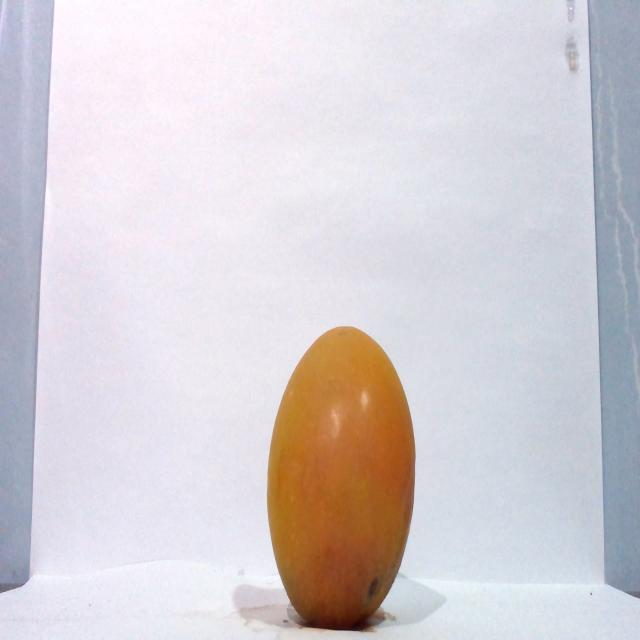Red: (265, 324, 417, 629)
